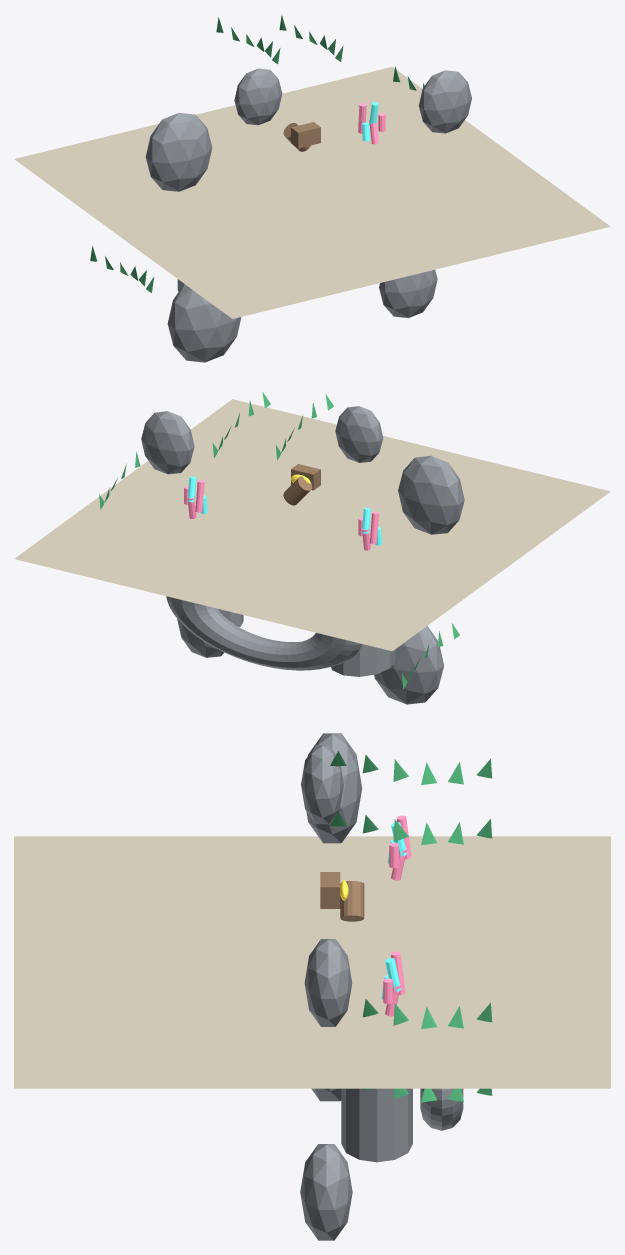
File: aquarium_decor.glb
3 renders of one model, top to bottom at view 1: azimuth 30°, elevation 25°; view 2: azimuth 150°, elevation 25°; view 3: azimuth 270°, elevation 25°, orthographic. The views are drawn at different scales.
Parts seen in each view (by area): view 1: Aquarium_Floor, Icosphere, Icosphere.004, Icosphere.001, Icosphere.002, Icosphere.003, Cube; view 2: Aquarium_Floor, Torus, Icosphere, Icosphere.004, Icosphere.001, Icosphere.002, Cylinder, Icosphere.003, Cylinder.022, Cube; view 3: Aquarium_Floor, Cylinder.001, Icosphere.003, Icosphere.001, Icosphere.002, Icosphere, Torus, Cylinder.022, Cube.
Boxes of the visible parts, left/top/right/bottom form: Aquarium_Floor: left=14, top=67, right=610, bottom=318; Icosphere: left=145, top=112, right=212, bottom=191; Icosphere.004: left=167, top=284, right=241, bottom=362; Icosphere.001: left=418, top=70, right=471, bottom=133; Icosphere.002: left=234, top=68, right=282, bottom=125; Icosphere.003: left=379, top=269, right=437, bottom=318; Cube: left=291, top=122, right=320, bottom=148; Aquarium_Floor: left=14, top=399, right=610, bottom=651; Torus: left=166, top=596, right=362, bottom=670; Icosphere: left=398, top=455, right=464, bottom=534; Icosphere.004: left=374, top=626, right=444, bottom=704; Icosphere.001: left=141, top=411, right=194, bottom=474; Icosphere.002: left=335, top=406, right=383, bottom=462; Cylinder: left=331, top=644, right=395, bottom=676; Icosphere.003: left=177, top=619, right=223, bottom=657; Cylinder.022: left=283, top=476, right=312, bottom=505; Cube: left=291, top=464, right=320, bottom=490; Aquarium_Floor: left=14, top=836, right=610, bottom=1088; Cylinder.001: left=341, top=1088, right=412, bottom=1162; Icosphere.003: left=300, top=1144, right=352, bottom=1240; Icosphere.001: left=304, top=939, right=352, bottom=1026; Icosphere.002: left=301, top=745, right=343, bottom=824; Icosphere: left=306, top=733, right=362, bottom=843; Torus: left=420, top=1088, right=463, bottom=1130; Cylinder.022: left=340, top=881, right=364, bottom=921; Cube: left=320, top=872, right=340, bottom=908.
Size of the model in its own units: 30 by 22.56 by 30.
